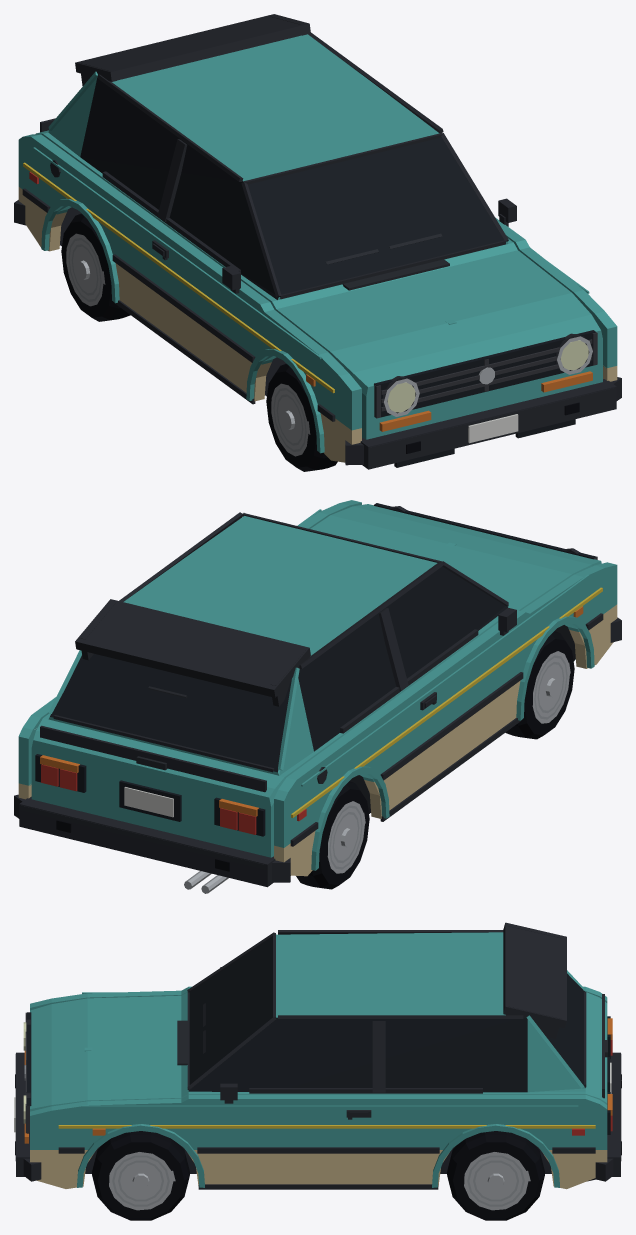
The model's file is hatchback-80s-e95554-preview.glb.
The picture shows the model from 3 angles, top to bottom: view 1: azimuth 30°, elevation 25°; view 2: azimuth 150°, elevation 25°; view 3: azimuth 270°, elevation 25°; orthographic projection. The views are drawn at different scales.
Parts seen in each view (by area): view 1: object 1, wheel-fl, wheel-rl; view 2: object 1, wheel-rl, wheel-fl; view 3: object 1, wheel-rr, wheel-fr.
Boxes of the visible parts, x1=… form: object 1: x1=14, y1=14, x2=621, y2=469; wheel-fl: x1=266, y1=363, x2=337, y2=471; wheel-rl: x1=61, y1=213, x2=130, y2=321; object 1: x1=14, y1=500, x2=621, y2=893; wheel-rl: x1=296, y1=781, x2=369, y2=889; wheel-fl: x1=505, y1=631, x2=574, y2=739; object 1: x1=14, y1=922, x2=621, y2=1189; wheel-rr: x1=447, y1=1131, x2=544, y2=1220; wheel-fr: x1=92, y1=1131, x2=189, y2=1220.
Bounding box in the file's own units: 1.97 × 1.56 × 4.21.
